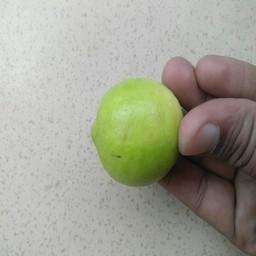Good_lime: (87, 79, 182, 187)
